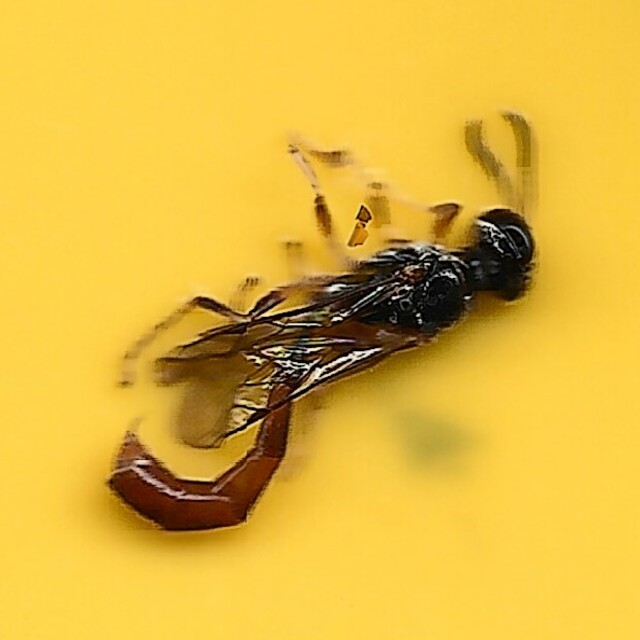Hymenoptera: (103, 108, 537, 532)
